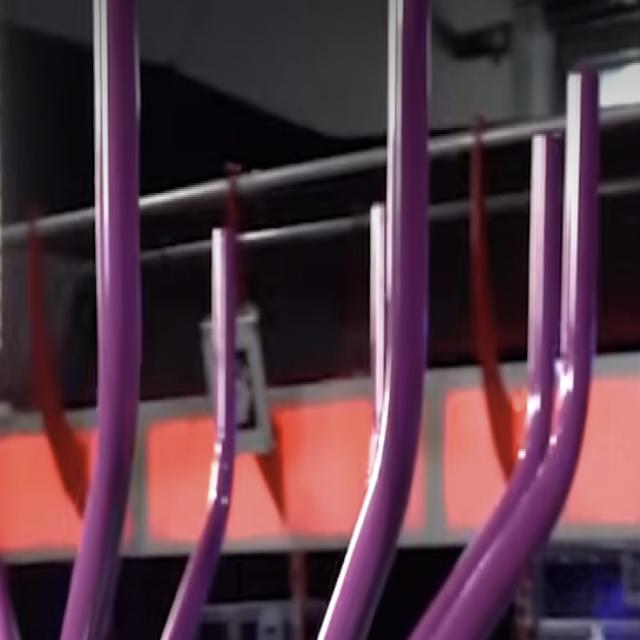Reef: (96, 0, 141, 443), (387, 0, 428, 412), (561, 71, 599, 415), (528, 133, 555, 430), (212, 228, 236, 472)
